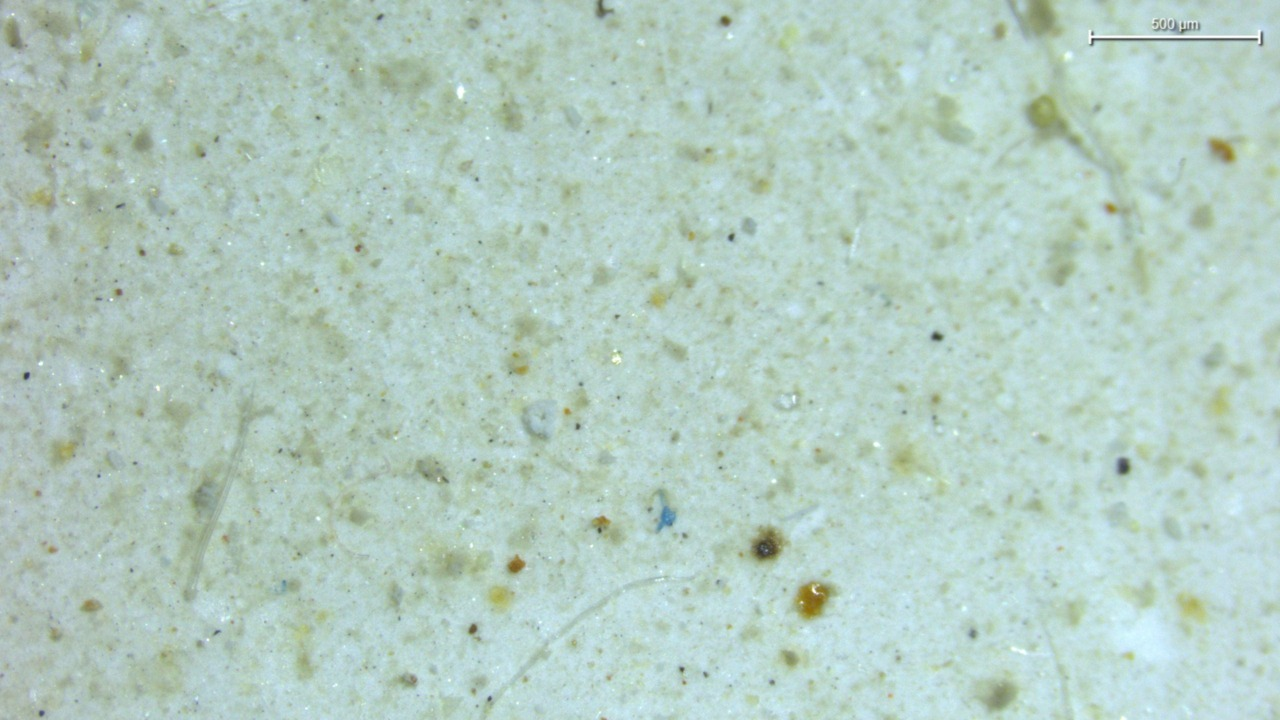microplastic_fragment: (521, 400, 560, 440)
